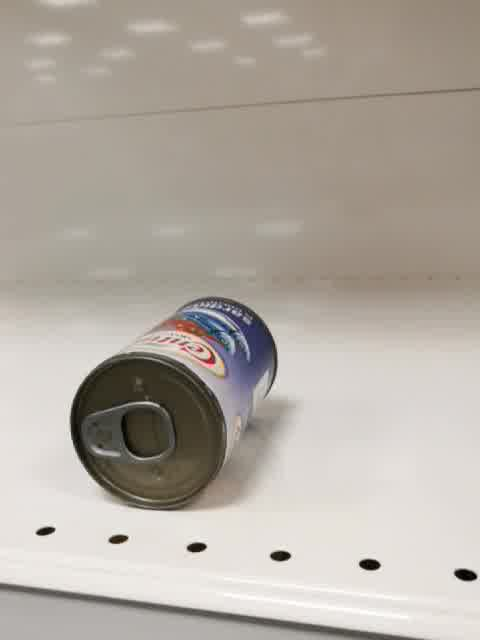sardine: (71, 297, 278, 511)
